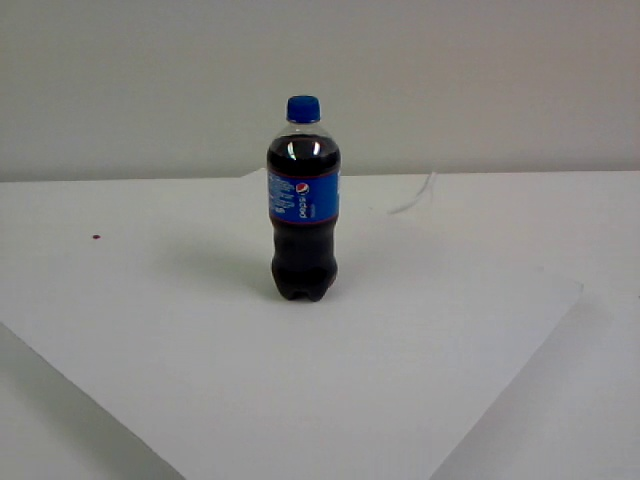botolplastik: (267, 96, 341, 302)
